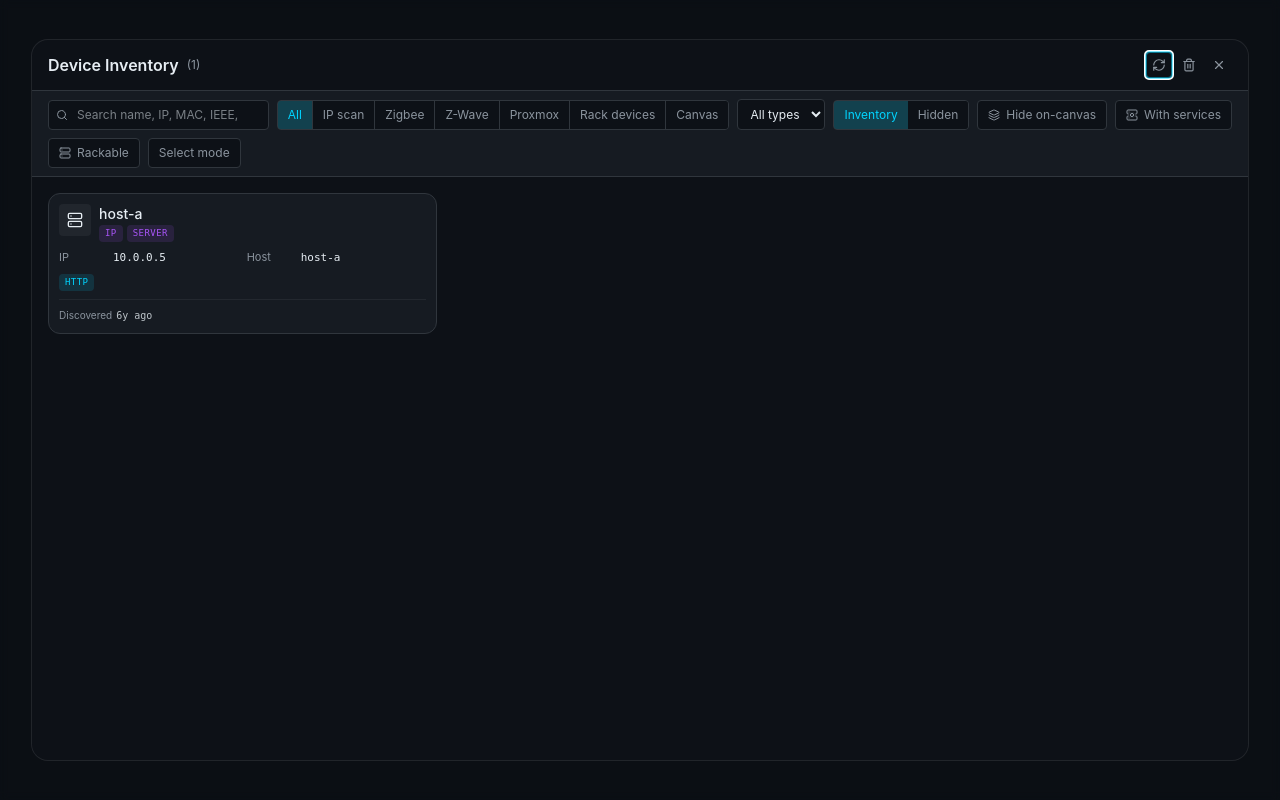
it: PendingDevicesModal — duplicate approve prompt › prompts instead of duplicating when the host is already on this design
This screenshot has width=1280, height=800.
Click the button with test id "pending-card-dev-a": click(75, 220) [48,193,437,334]
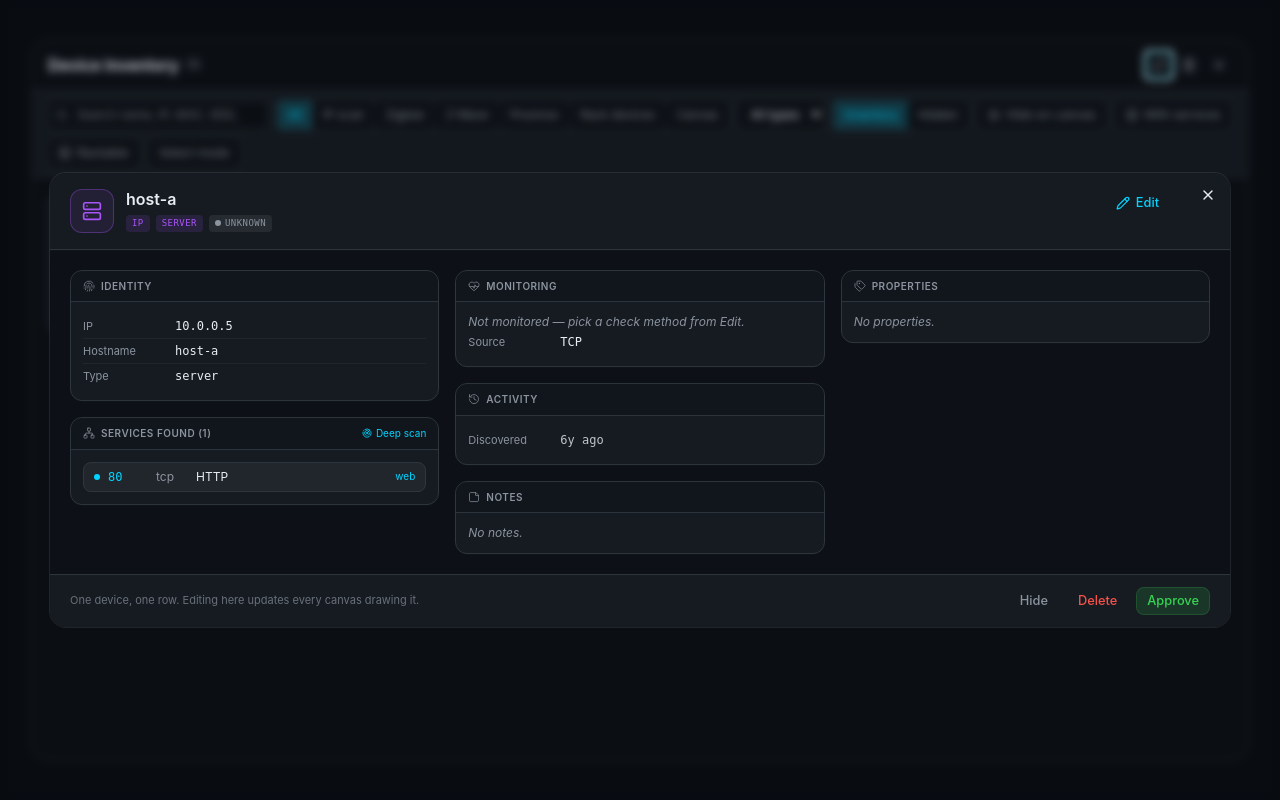
Click the button "Approve": click(1173, 601) [1136,587,1210,615]
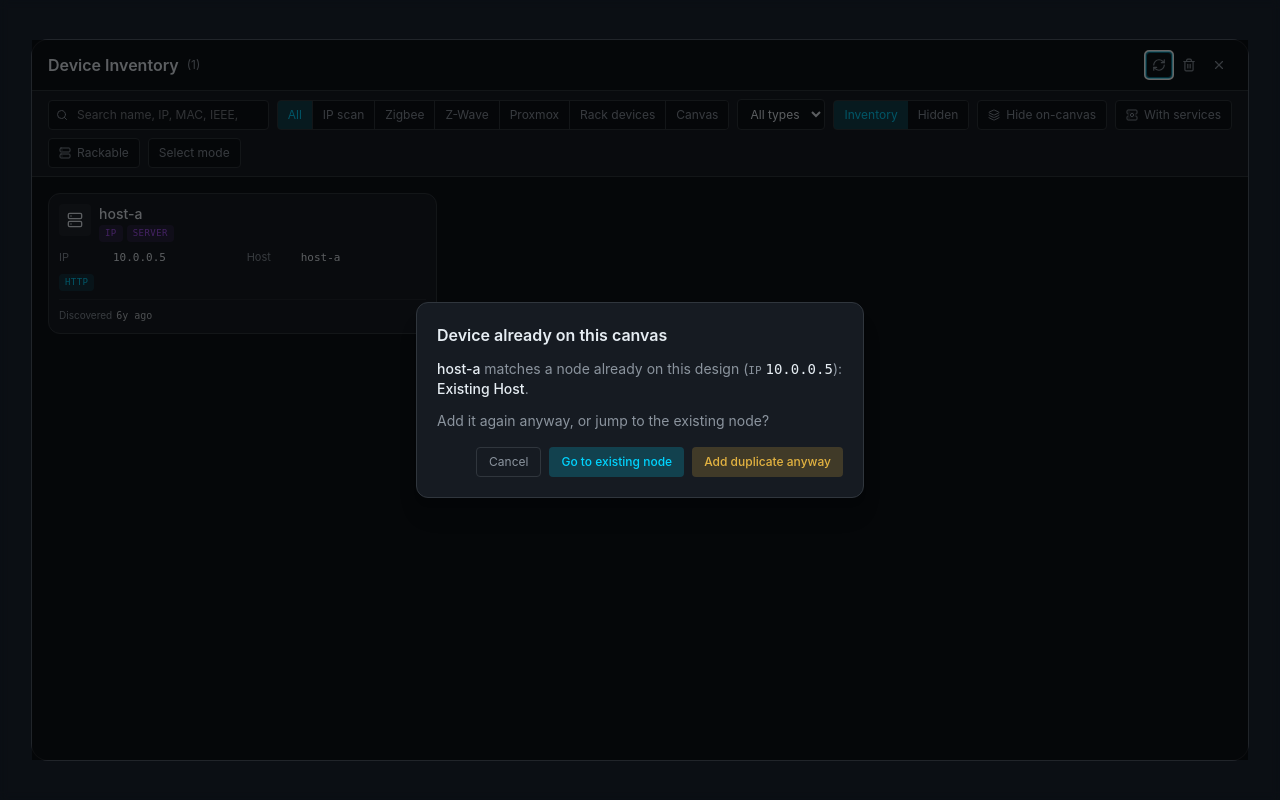
Expected: the heading "Device already on this canvas" is shown, [437,325,667,345]
Expected: the text "Existing Host" is shown, [437,380,525,397]
